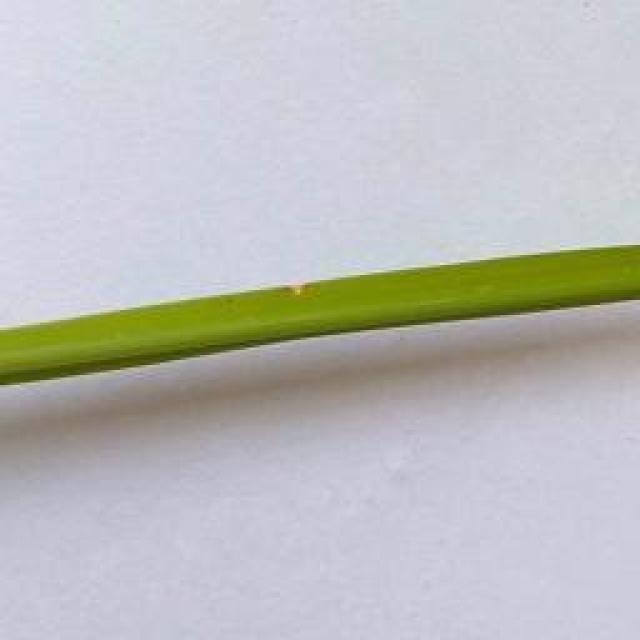Unhealthy: (281, 283, 316, 299)
